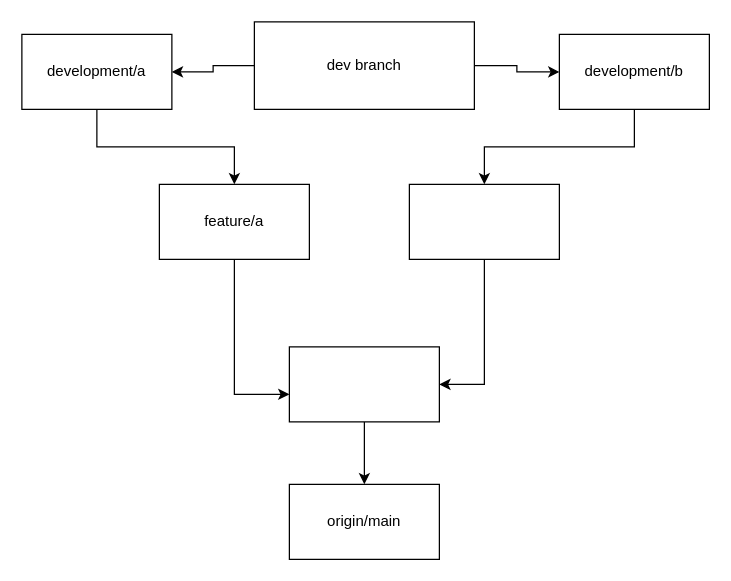
This 731x581 diagram has some shape labels left out. The centre of each missing label's shape, as x and y in pixels:
"feature/b" goes at point 483,221.
"test" goes at point 363,384.
